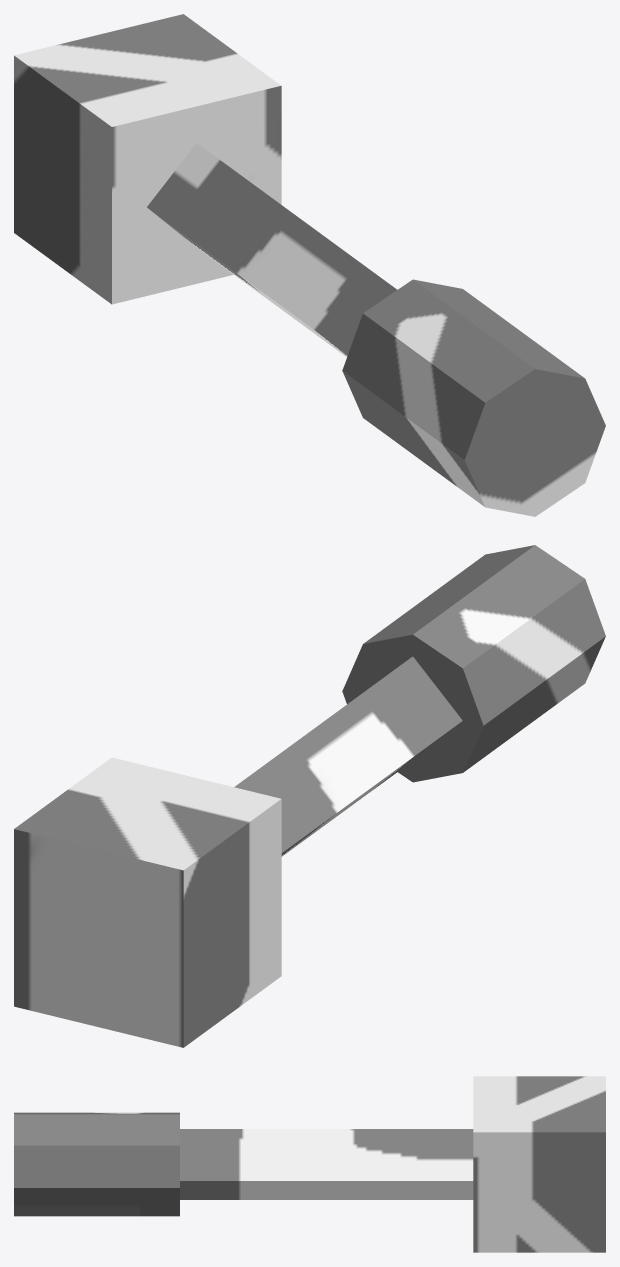
Rendered from enemyMuzzleSS01.obj.
The picture shows the model from 3 angles, top to bottom: view 1: azimuth 30°, elevation 25°; view 2: azimuth 150°, elevation 25°; view 3: azimuth 270°, elevation 25°; orthographic projection. The views are drawn at different scales.
Visible parts, largest first — view 1: 小型空中敵武器; view 2: 小型空中敵武器; view 3: 小型空中敵武器.
Part boxes in pixels (x1,y1,x2,y2): 小型空中敵武器: (14, 14, 605, 516); 小型空中敵武器: (14, 545, 605, 1047); 小型空中敵武器: (14, 1076, 605, 1252).
Bounding box in the file's own units: 0.225 × 0.225 × 1.
1 material, 1 textured.
